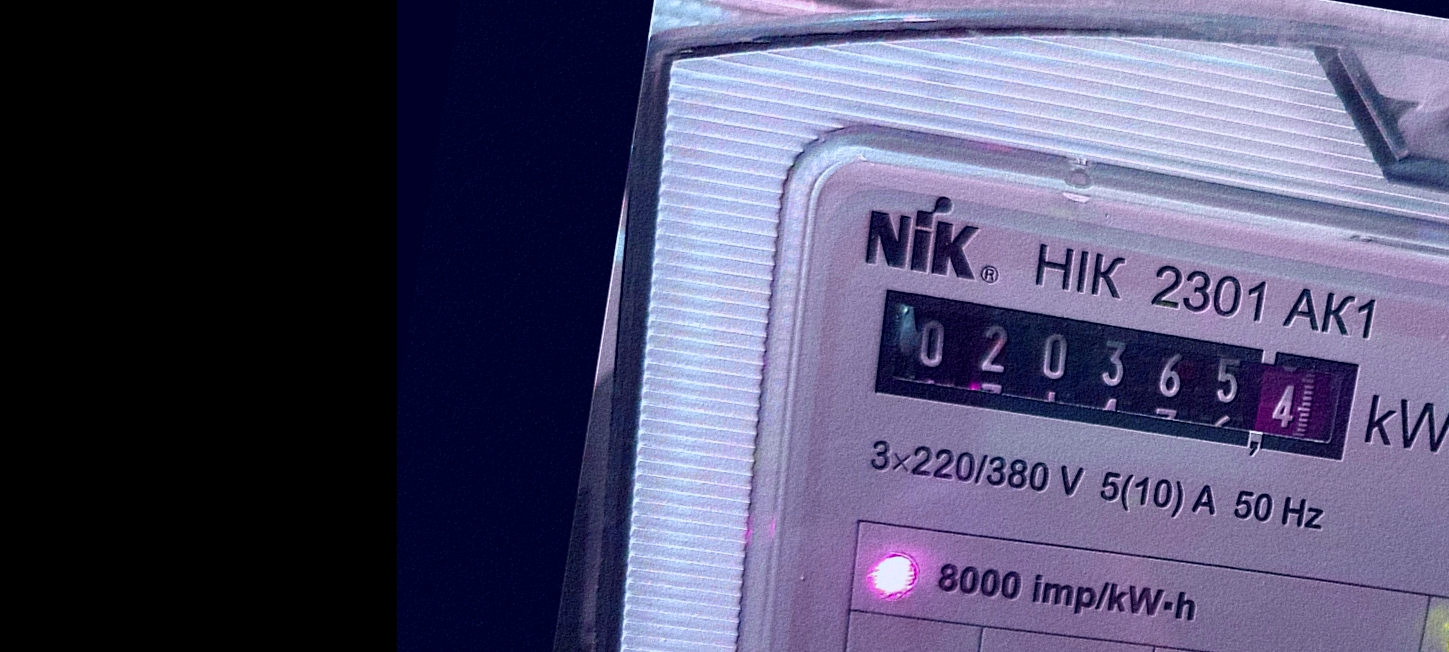0: (913, 314, 954, 374), (1038, 330, 1075, 384)
2: (977, 321, 1014, 376)
3: (1097, 338, 1133, 391)
4: (1269, 379, 1299, 431)
5: (1213, 356, 1246, 406)
6: (1155, 347, 1188, 401)
screen: (856, 270, 1378, 485)
